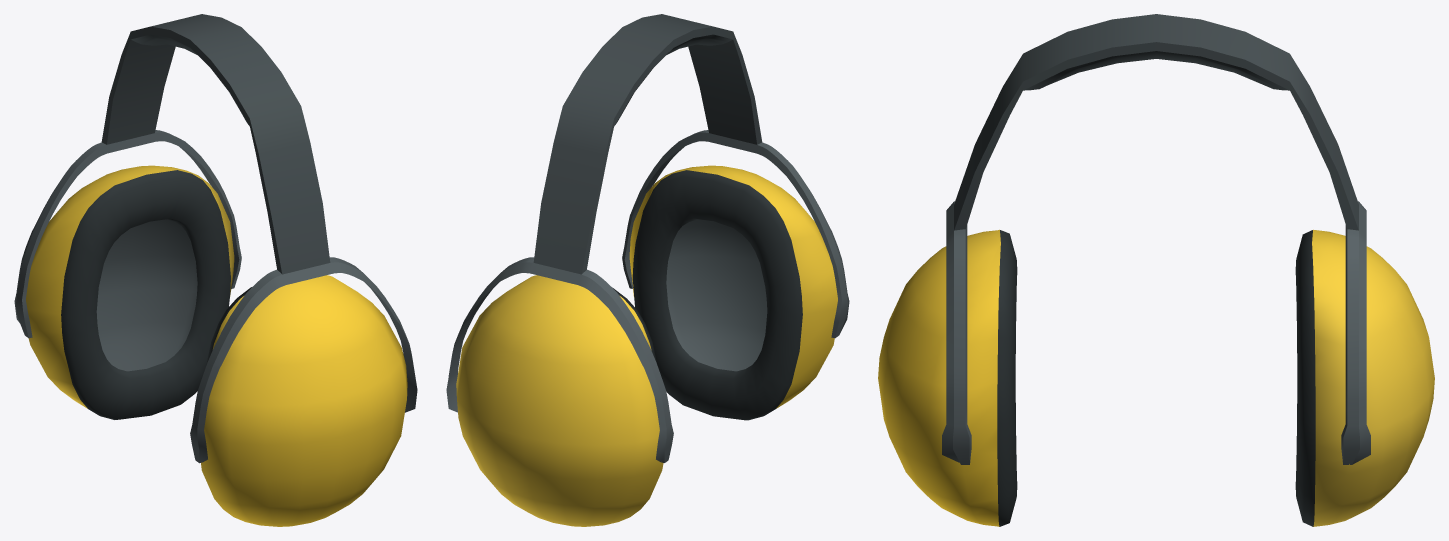
File: Headphones.fbx
3 renders of one model, left to right at view 1: azimuth 30°, elevation 25°; view 2: azimuth 150°, elevation 25°; view 3: azimuth 270°, elevation 25°, orthographic. The views are drawn at different scales.
Parts seen in each view (by area): view 1: pCube2; view 2: pCube2; view 3: pCube2.
Part boxes in pixels (x1=…): pCube2: x1=14, y1=14, x2=417, y2=526; pCube2: x1=446, y1=14, x2=849, y2=526; pCube2: x1=878, y1=14, x2=1434, y2=526.
Bounding box in the file's own units: 1.35 × 2.55 × 2.65.
1 material, 1 textured.
